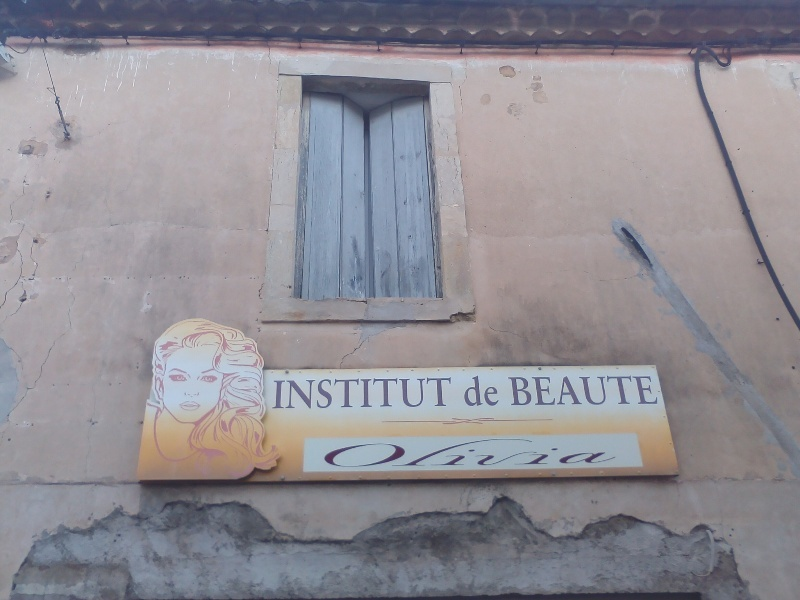text: (273, 376, 288, 409), (289, 376, 304, 409), (305, 376, 320, 409), (321, 376, 336, 409), (337, 376, 352, 409), (353, 376, 368, 409), (369, 376, 384, 409), (385, 376, 400, 409), (401, 376, 416, 409), (417, 376, 432, 409), (433, 376, 448, 409), (465, 375, 480, 407), (481, 375, 496, 407), (513, 375, 528, 407), (529, 375, 544, 407), (545, 375, 560, 407), (561, 375, 576, 407), (577, 375, 592, 407), (593, 375, 608, 407), (609, 375, 624, 407), (625, 375, 640, 407), (641, 375, 656, 407), (337, 436, 352, 468), (353, 436, 368, 468), (369, 436, 384, 468), (385, 436, 400, 468), (401, 436, 416, 468), (417, 436, 432, 468), (433, 436, 448, 468), (449, 436, 464, 468), (465, 436, 480, 468), (481, 436, 496, 468), (497, 436, 512, 468), (513, 436, 528, 468), (529, 436, 544, 468), (545, 436, 560, 468), (561, 436, 576, 468), (577, 436, 592, 468), (593, 436, 608, 468), (323, 436, 336, 468), (609, 436, 618, 468), (449, 376, 454, 409), (508, 375, 512, 407), (657, 375, 661, 407), (497, 375, 500, 407)
